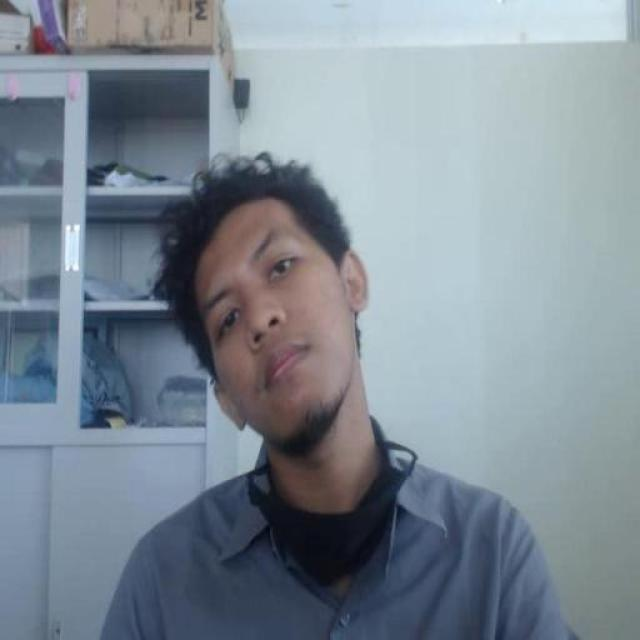bareface: (199, 217, 345, 442)
